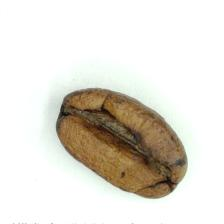NG: (60, 91, 186, 183)
